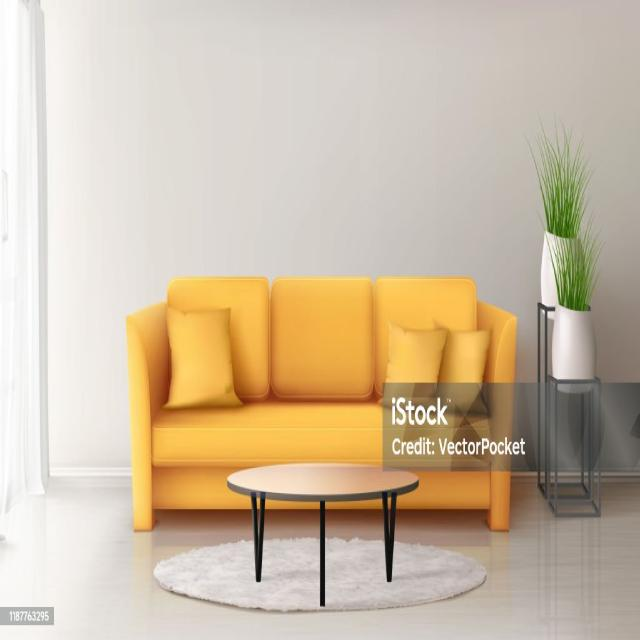back_cushion: (164, 278, 506, 408)
base: (152, 467, 248, 507), (399, 471, 490, 509)
left_arm: (478, 302, 516, 440), (488, 457, 510, 530)
right_arm: (127, 304, 168, 530)
seat_cushion: (152, 401, 491, 469)
stallion-sofa: (127, 277, 516, 530), (401, 457, 509, 530)
